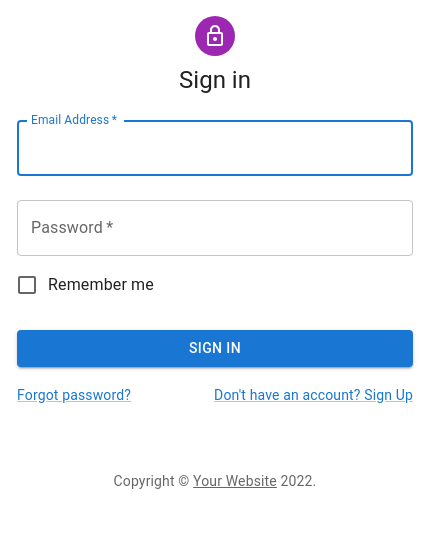
Test case: Login › メールアドレス形式ミスバリデーションテスト
This screenshot has width=431, height=551.
In the field labelled "Email Address": point(215, 148) [17,120,413,176], type "fuga"
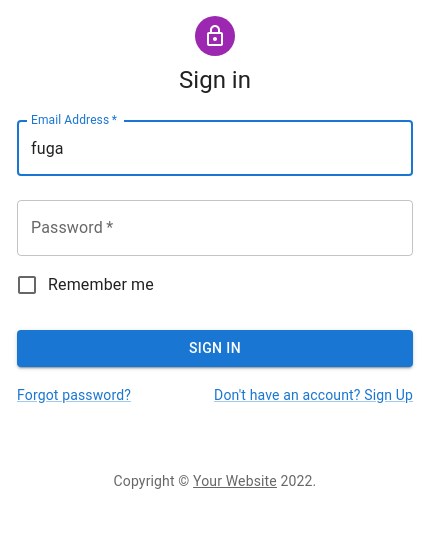
Submit the form from the button "Sign In", box [17,330,413,366]
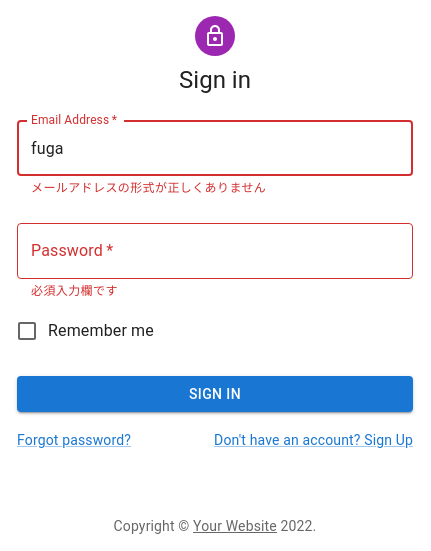
expect the text "メールアドレスの形式が正しくありません" is shown: met, box [31,181,266,195]
